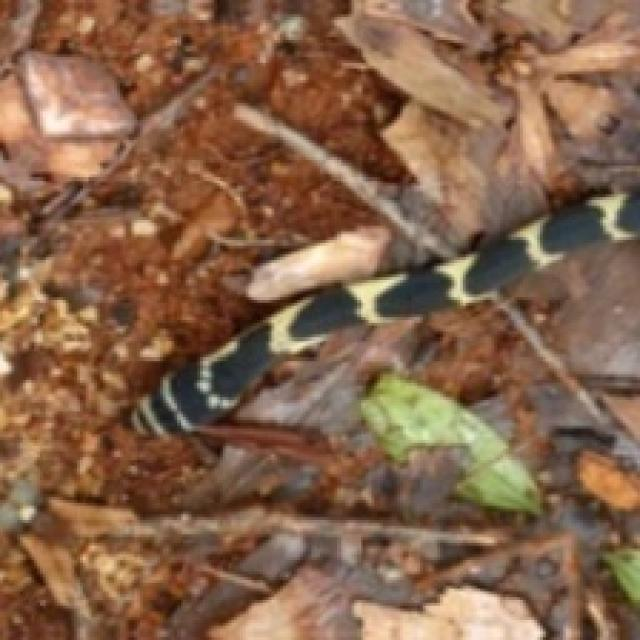king cobra: (131, 191, 637, 431), (557, 311, 637, 434)
